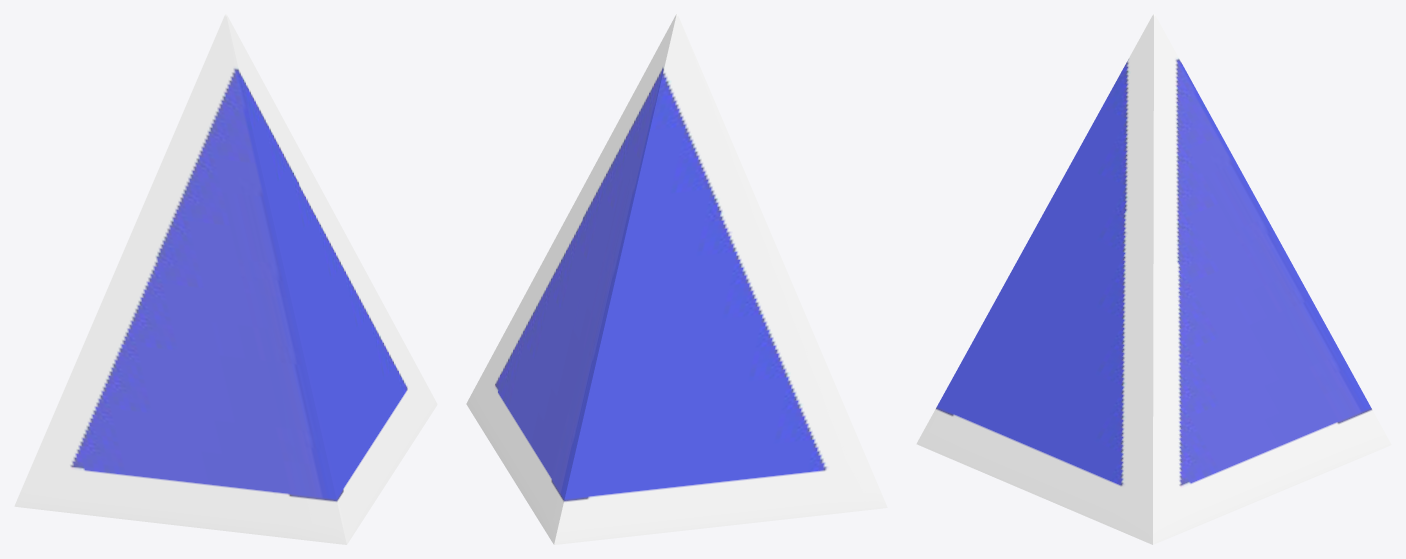
File: demo.gltf
3 renders of one model, left to right at view 1: azimuth 30°, elevation 25°; view 2: azimuth 150°, elevation 25°; view 3: azimuth 270°, elevation 25°, orthographic. The views are drawn at different scales.
Size of the model in its own units: 1.98 by 2 by 1.98.
2 materials, 2 textured.
